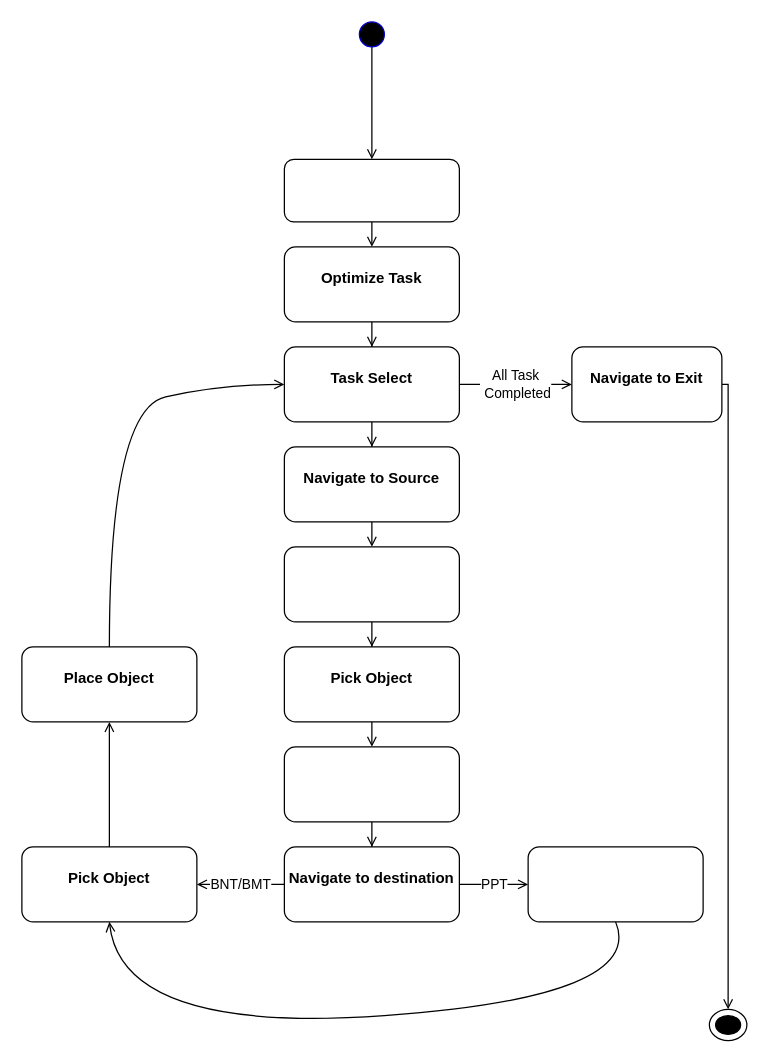
Image size: 769x1063. Some labels were removed from this diagram. The shapes that lost their labels are listed below. From the top down, each one's centre as x and y in pixels, then its label:
the point at 371,190: Get Task
the point at 371,584: Scan Object
the point at 371,784: Place
the point at 615,884: Scan Object Hole
